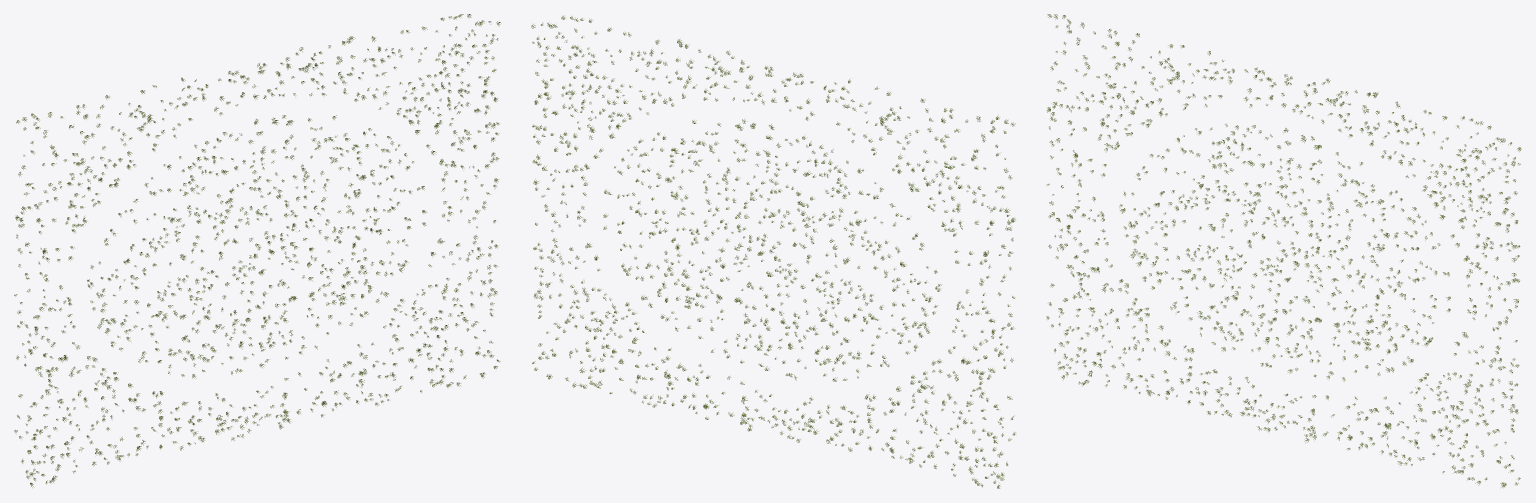
File: undergrowth.obj
3 renders of one model, left to right at view 1: azimuth 30°, elevation 25°; view 2: azimuth 150°, elevation 25°; view 3: azimuth 330°, elevation 25°, orthographic. The views are drawn at different scales.
Visible parts, largest first — view 1: undergrowth; view 2: undergrowth; view 3: undergrowth.
Boxes of the visible parts, x1,y1,x2,y2 form: undergrowth: (14, 14, 500, 487); undergrowth: (531, 15, 1015, 488); undergrowth: (1046, 14, 1521, 487).
Size of the model in its own units: 76.61 by 56.85 by 1.55.
